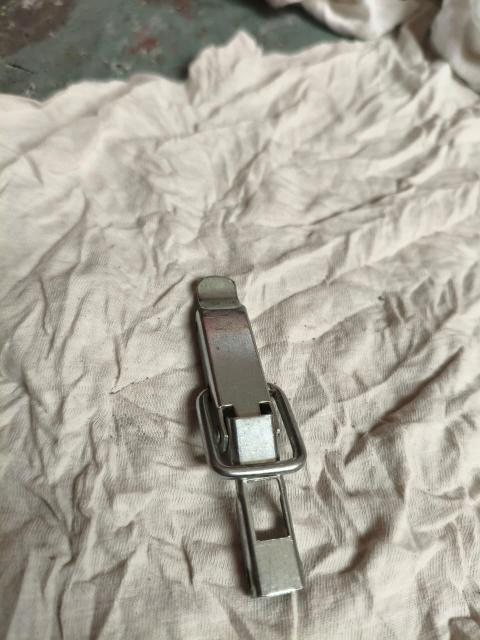Metal: (178, 273, 315, 603)
